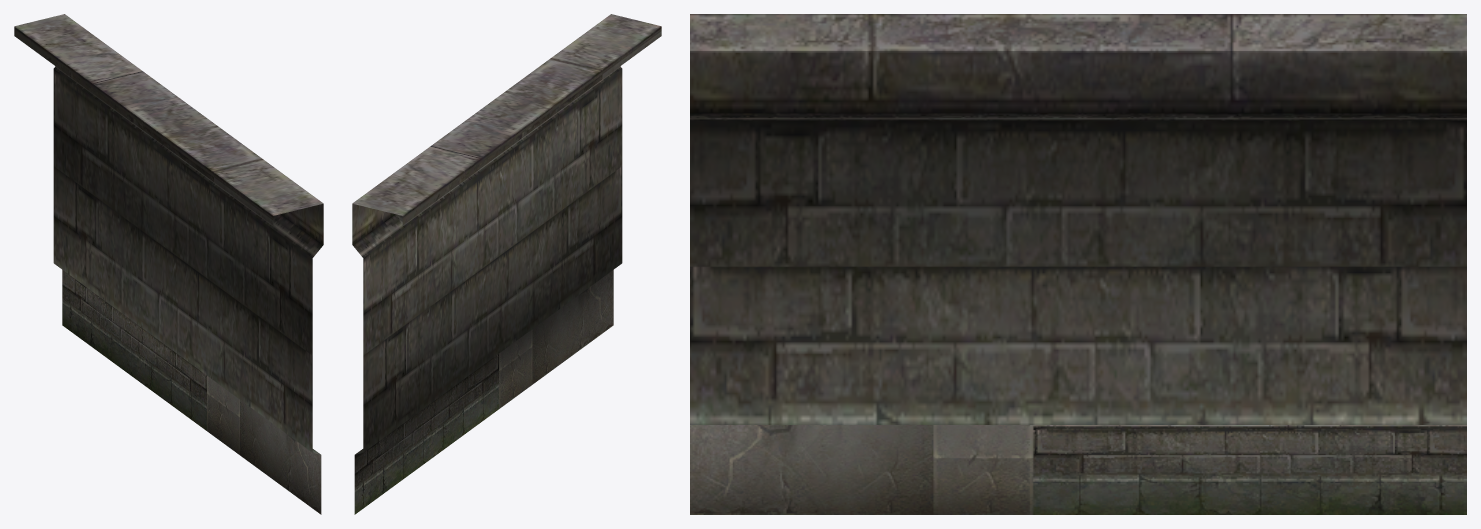
File: jz_gaotai01_54_02_8101out.fbx
The picture shows the model from 3 angles, left to right: view 1: azimuth 30°, elevation 25°; view 2: azimuth 150°, elevation 25°; view 3: azimuth 270°, elevation 25°; orthographic projection. The views are drawn at different scales.
Visible parts, largest first — view 1: jz_gaotai01; view 2: jz_gaotai01; view 3: jz_gaotai01.
Boxes of the visible parts, x1,y1,x2,y2 form: jz_gaotai01: [14, 14, 323, 514]; jz_gaotai01: [352, 14, 661, 514]; jz_gaotai01: [690, 14, 1466, 514].
Size of the model in its own units: 0.7355 by 4.32 by 6.53.
